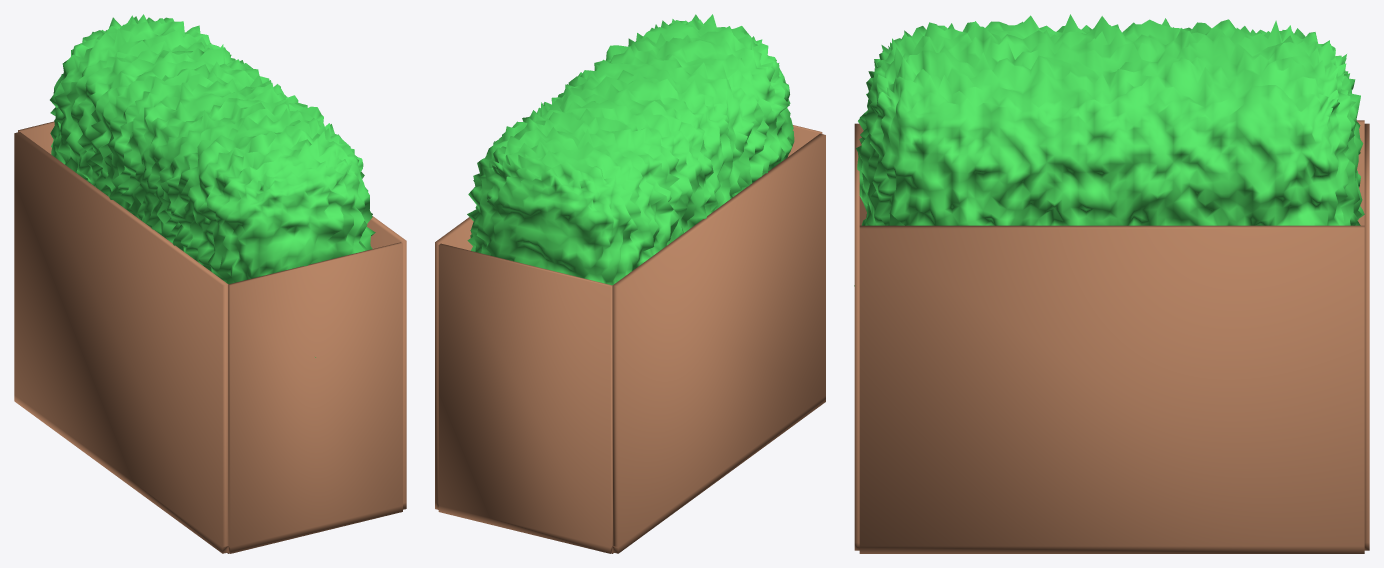
Rendered from macetero.fbx.
3 renders of one model, left to right at view 1: azimuth 30°, elevation 25°; view 2: azimuth 150°, elevation 25°; view 3: azimuth 270°, elevation 25°, orthographic. The views are drawn at different scales.
Visible parts, largest first — view 1: arbusto; view 2: arbusto; view 3: arbusto.
Part boxes in pixels (left/top/right/bottom): arbusto: left=14, top=14, right=406, bottom=553; arbusto: left=435, top=14, right=825, bottom=553; arbusto: left=854, top=14, right=1369, bottom=553.
Bounding box in the file's own units: 50 × 100 × 100.
